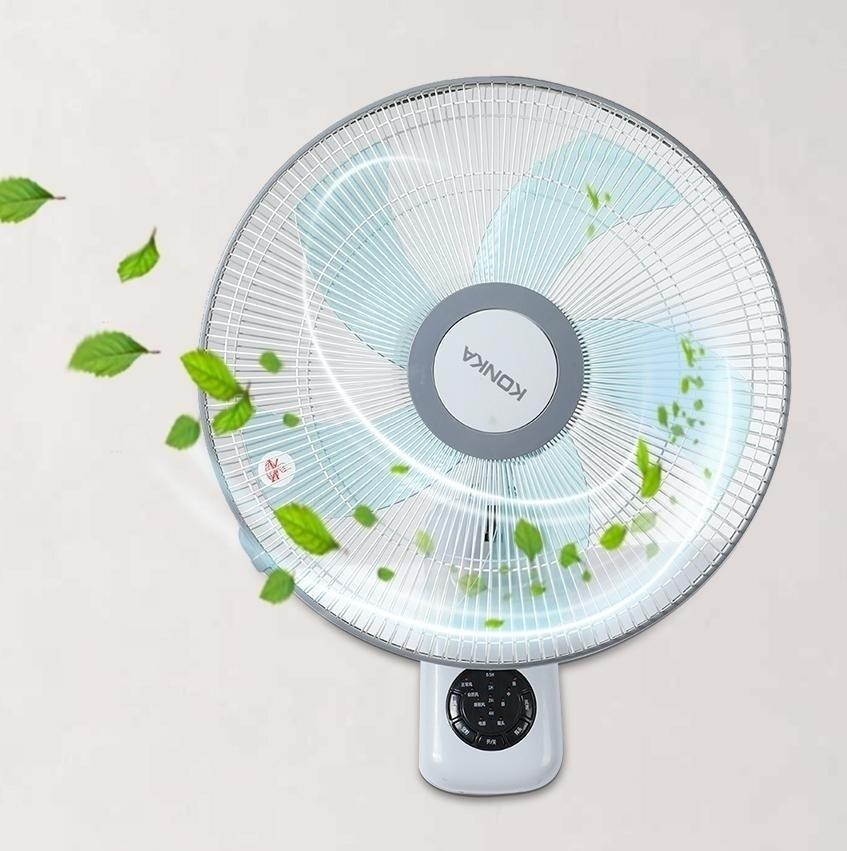fan: (186, 63, 815, 807)
